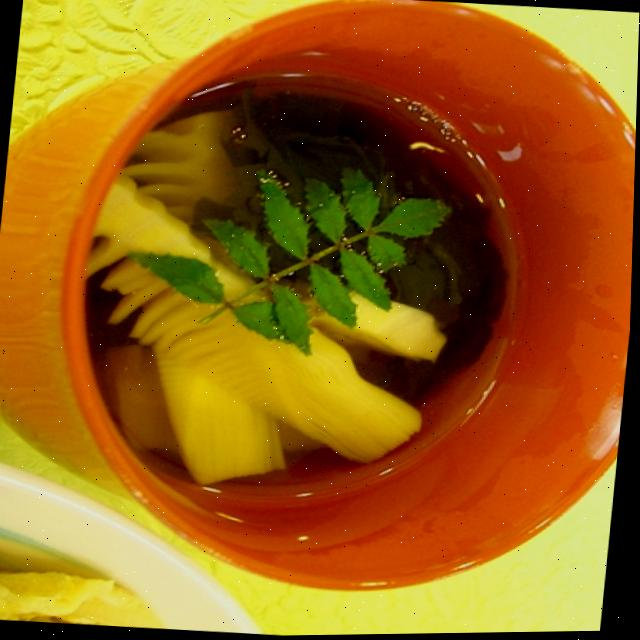汤锅炖物: (44, 0, 640, 608)
